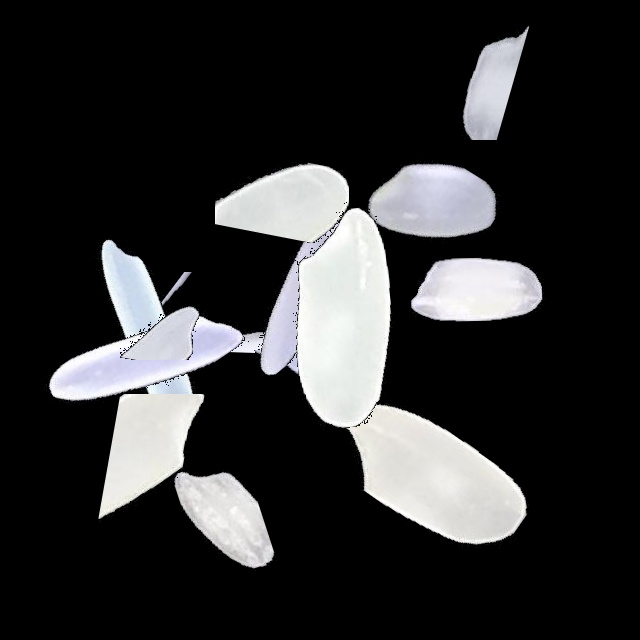Broken: (330, 112, 500, 362), (59, 451, 309, 609), (320, 6, 570, 140), (215, 44, 349, 294), (49, 394, 299, 523), (22, 236, 272, 360), (201, 173, 311, 423), (157, 350, 407, 451), (82, 272, 332, 364)
Full: (304, 353, 554, 603), (350, 163, 600, 413), (21, 211, 271, 461), (178, 169, 428, 419), (17, 234, 267, 484), (219, 192, 469, 442)
